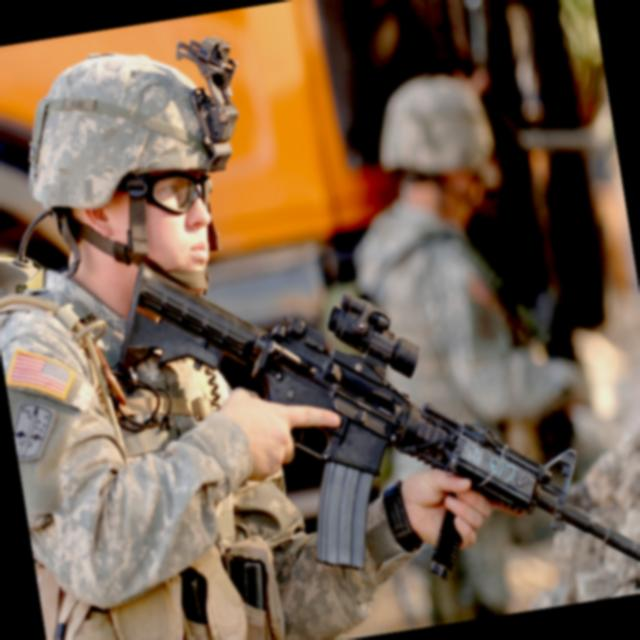m16: (89, 146, 640, 640)
